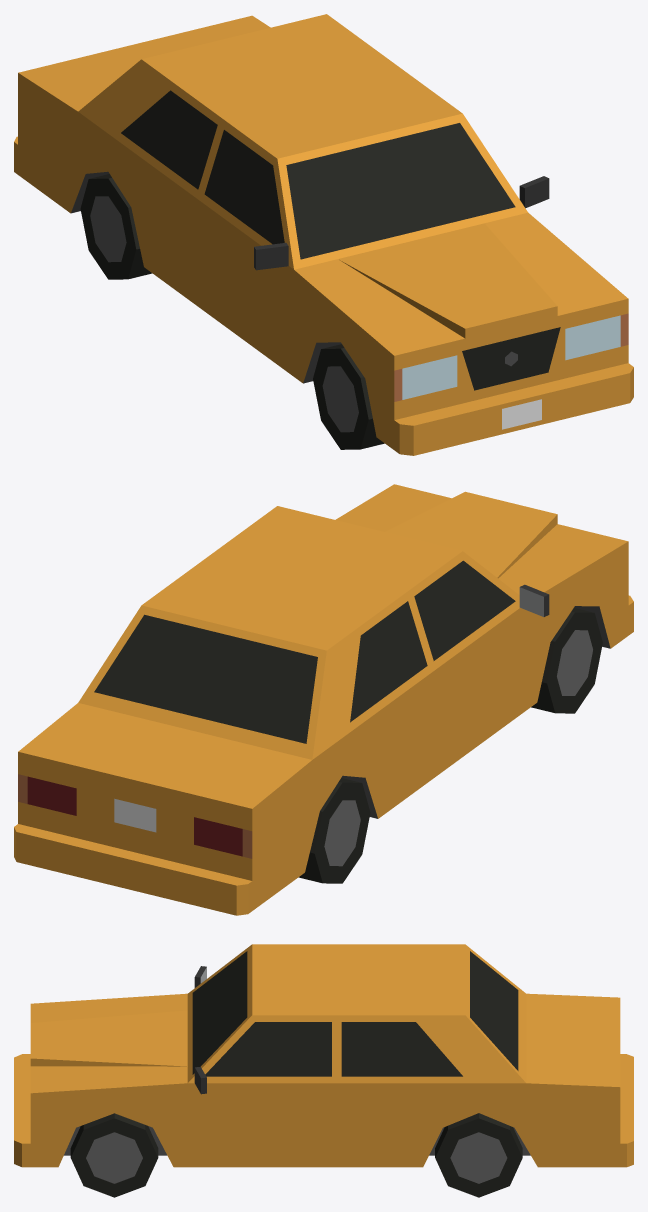
Rendered from Veh_Sedan_02_Yellow.glb.
The picture shows the model from 3 angles, top to bottom: view 1: azimuth 30°, elevation 25°; view 2: azimuth 150°, elevation 25°; view 3: azimuth 270°, elevation 25°; orthographic projection. The views are drawn at different scales.
Parts seen in each view (by area): view 1: Sedan_02_Yellow, Wheel_FR, Wheel_RR; view 2: Sedan_02_Yellow, Wheel_FR, Wheel_RR; view 3: Sedan_02_Yellow, Wheel_FL, Wheel_RL.
Part boxes in pixels (x1,y1,x2,y2): Sedan_02_Yellow: (14,14,633,455); Wheel_FR: (313,344,384,449); Wheel_RR: (80,174,152,279); Sedan_02_Yellow: (14,484,633,915); Wheel_FR: (531,608,602,713); Wheel_RR: (298,778,370,883); Sedan_02_Yellow: (14,944,633,1167); Wheel_FL: (70,1113,158,1197); Wheel_RL: (435,1113,522,1197).
Size of the model in its own units: 1.16 by 0.8379 by 2.72.
Materials: 1 (1 with a texture image).
